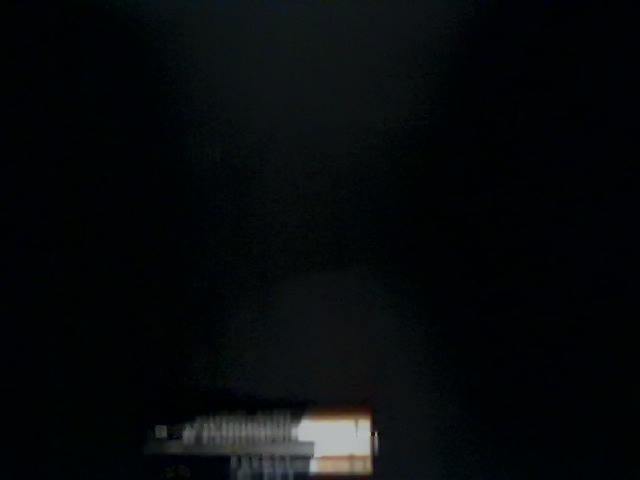YHLJ: (392, 215, 519, 447)
